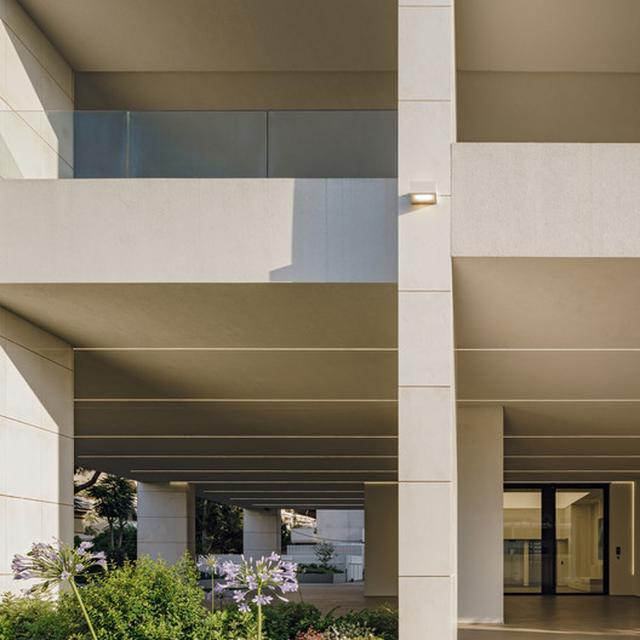building: (0, 2, 640, 634)
